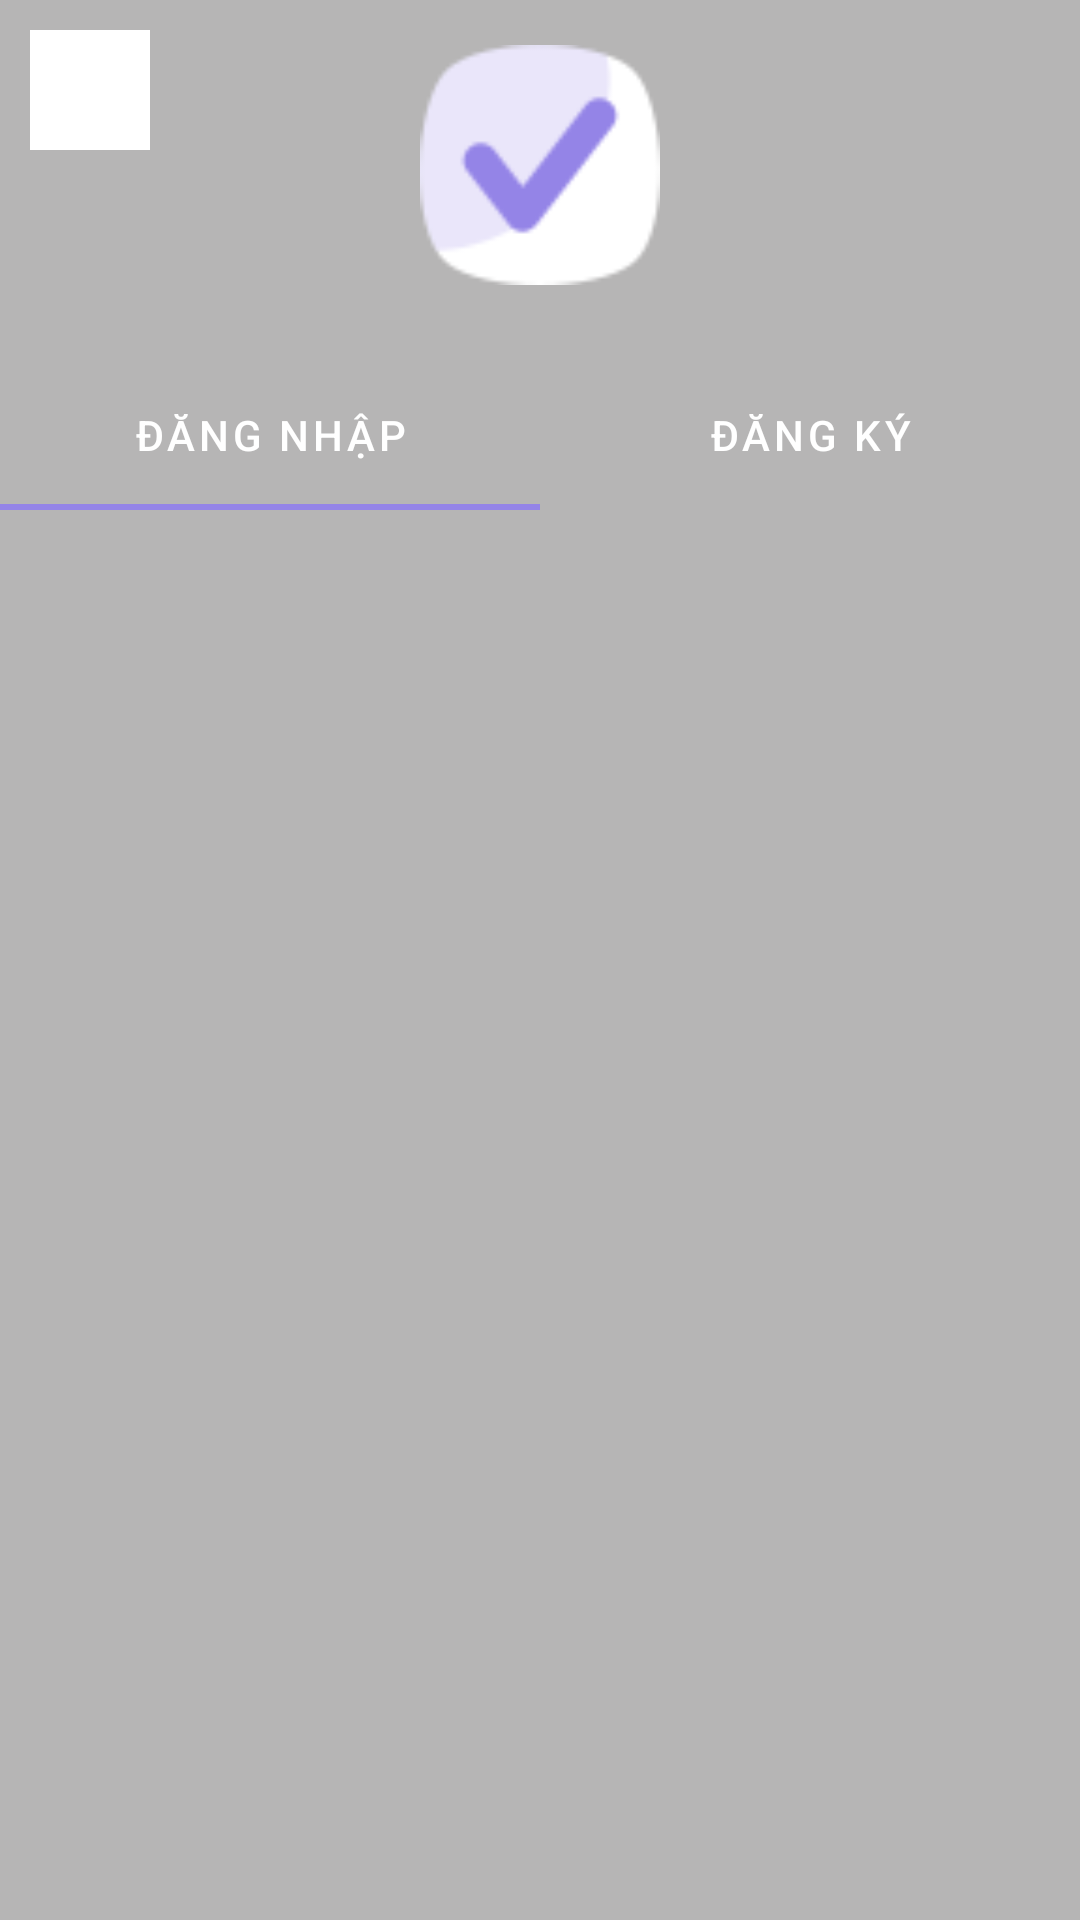

Point at icon controls on the screen. Image size 1080w x 1920h, points as point (x, y).
checked: point (540, 165)
